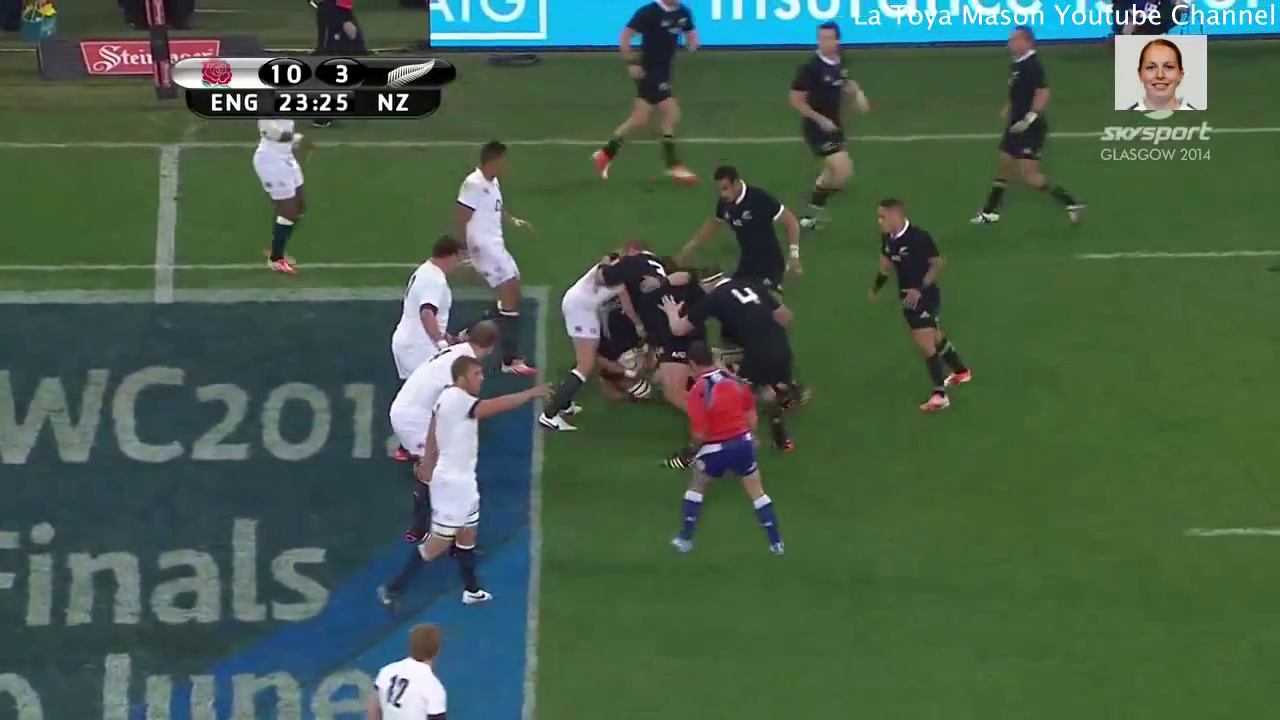maul: (551, 234, 809, 439)
player: (961, 24, 1091, 241), (666, 347, 789, 568), (863, 192, 973, 428), (581, 1, 710, 189), (409, 350, 499, 618), (770, 14, 875, 227), (687, 261, 817, 428), (436, 124, 542, 326), (548, 243, 620, 435), (239, 118, 316, 287), (701, 159, 798, 285), (354, 616, 458, 720), (390, 232, 464, 352)
